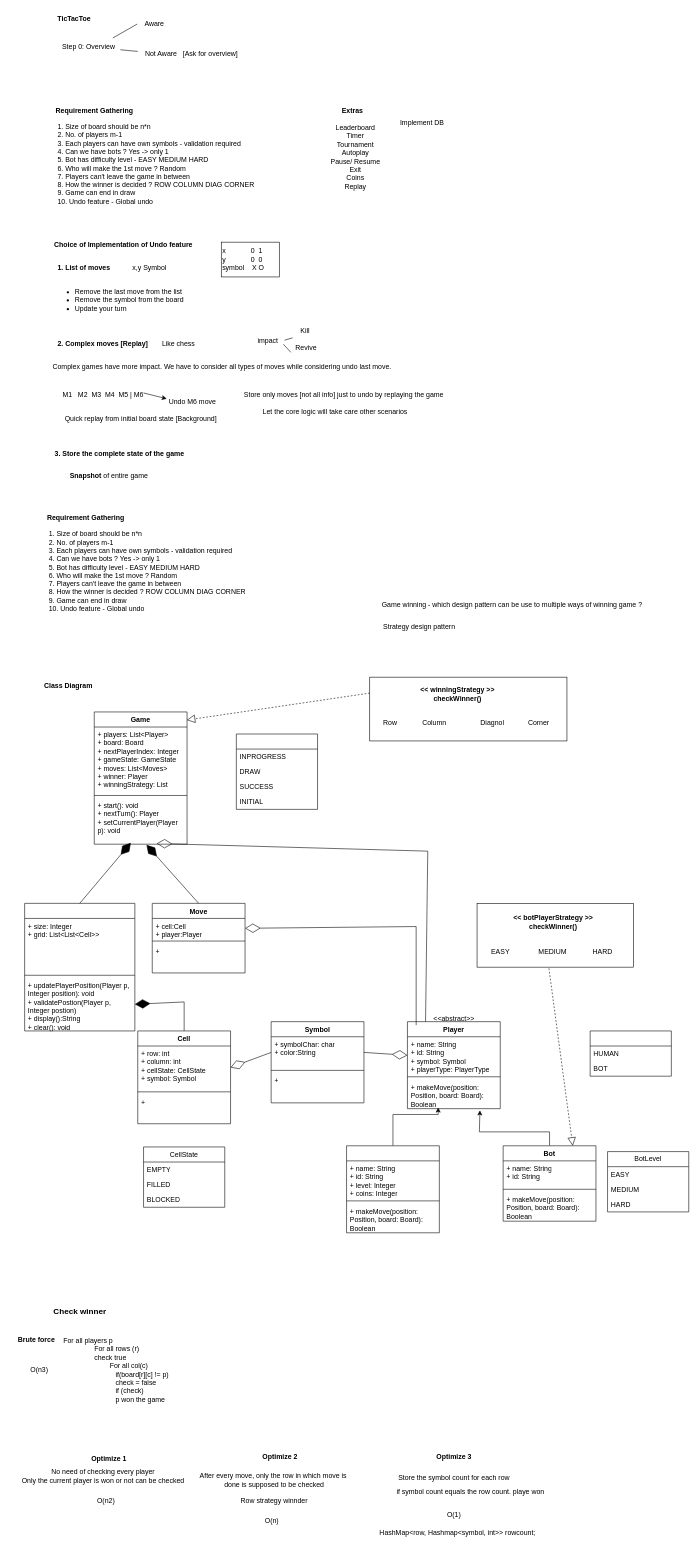
Some shapes in this 699 by 1551 pixel diagram are drawn without their labels. The box of each missing label's shape, as (x1, y1, x2, y2) in pixels:
Board: (24, 903, 135, 1031)
GameState: (236, 733, 318, 809)
Human Player: (346, 1145, 439, 1233)
PlayerType: (590, 1030, 671, 1076)
